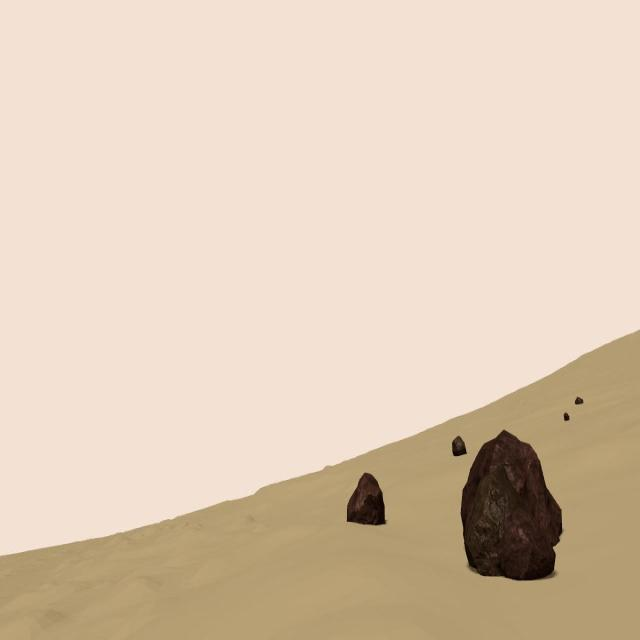rock: (460, 429, 563, 580), (347, 472, 385, 526), (452, 434, 466, 456), (574, 397, 583, 405), (564, 412, 570, 420)
